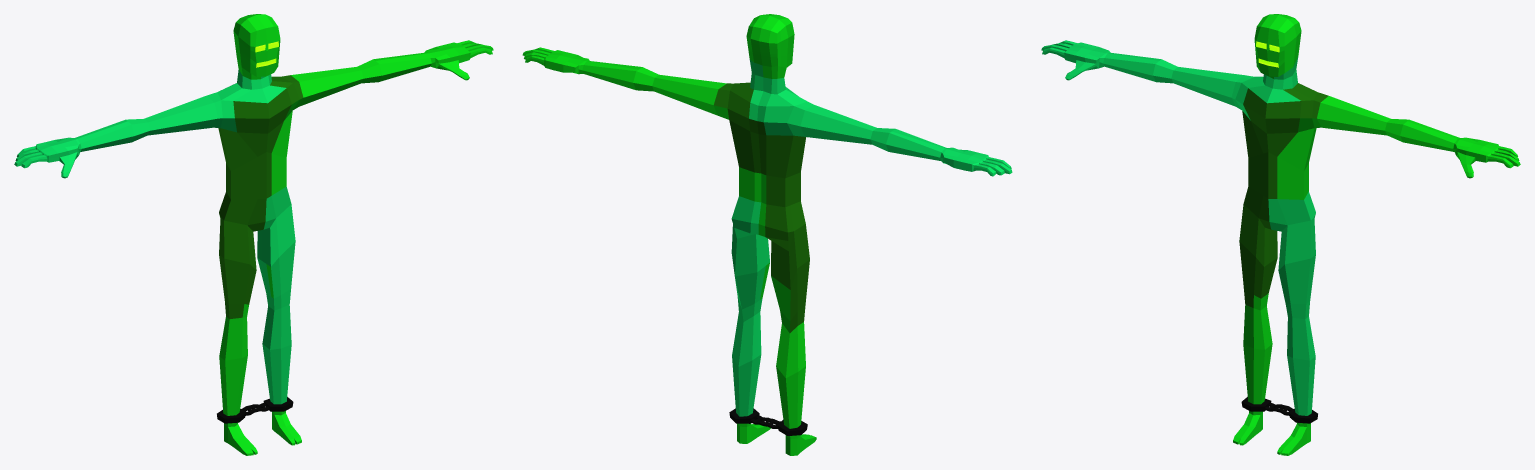
Rendered from spirit_version_green_02.fbx.
The picture shows the model from 3 angles, left to right: view 1: azimuth 30°, elevation 25°; view 2: azimuth 150°, elevation 25°; view 3: azimuth 330°, elevation 25°; orthographic projection. The views are drawn at different scales.
Parts seen in each view (by area): view 1: Cube; view 2: Cube; view 3: Cube.
Part boxes in pixels (bbox=[...]): Cube: bbox=[14, 14, 493, 455]; Cube: bbox=[522, 14, 1012, 455]; Cube: bbox=[1041, 14, 1520, 455].
Size of the model in its own units: 2570 by 2169 by 301.
